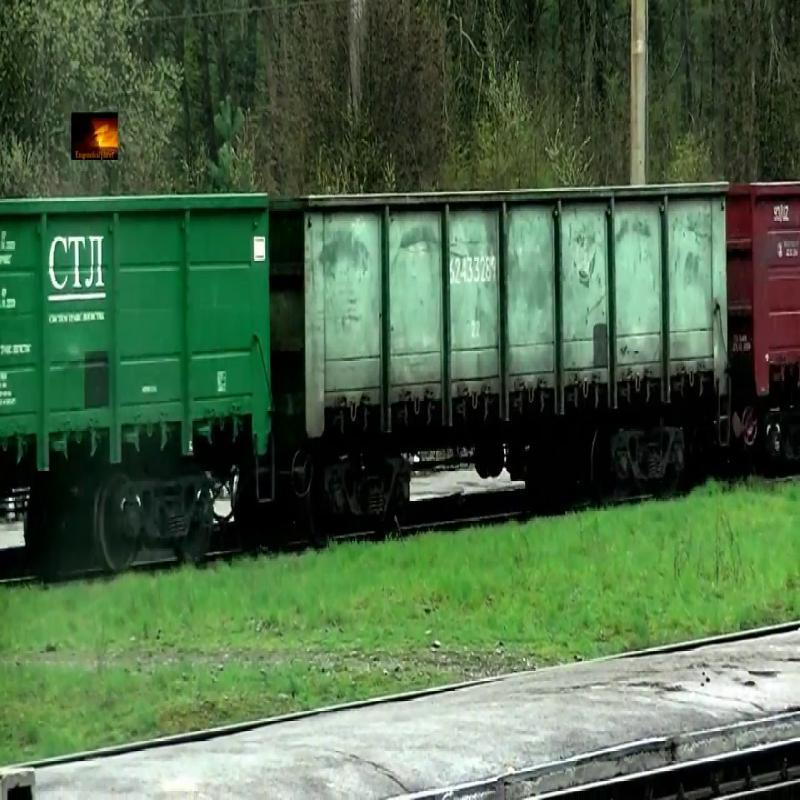train: (272, 178, 727, 455), (1, 192, 269, 494), (728, 180, 800, 409)
